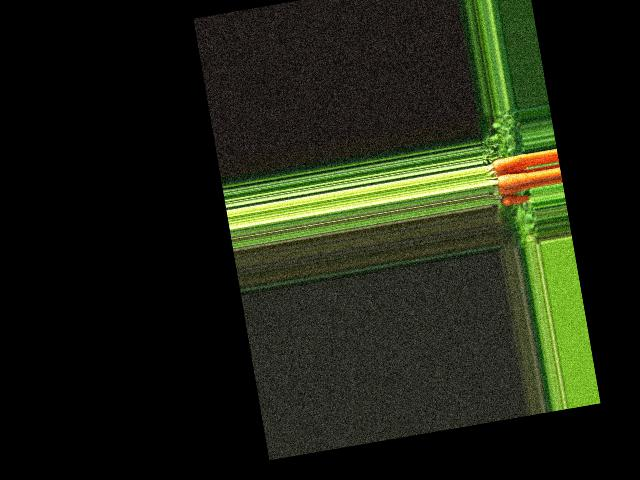carrot: (499, 189, 535, 209)
